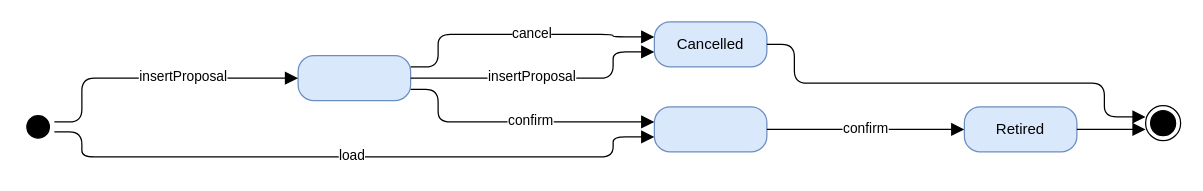
This 1203x191 diagram has some shape labels left out. The centre of each missing label's shape, as x and y in pixels:
"Active" goes at [710,129].
"Proposed" goes at [354,77].
